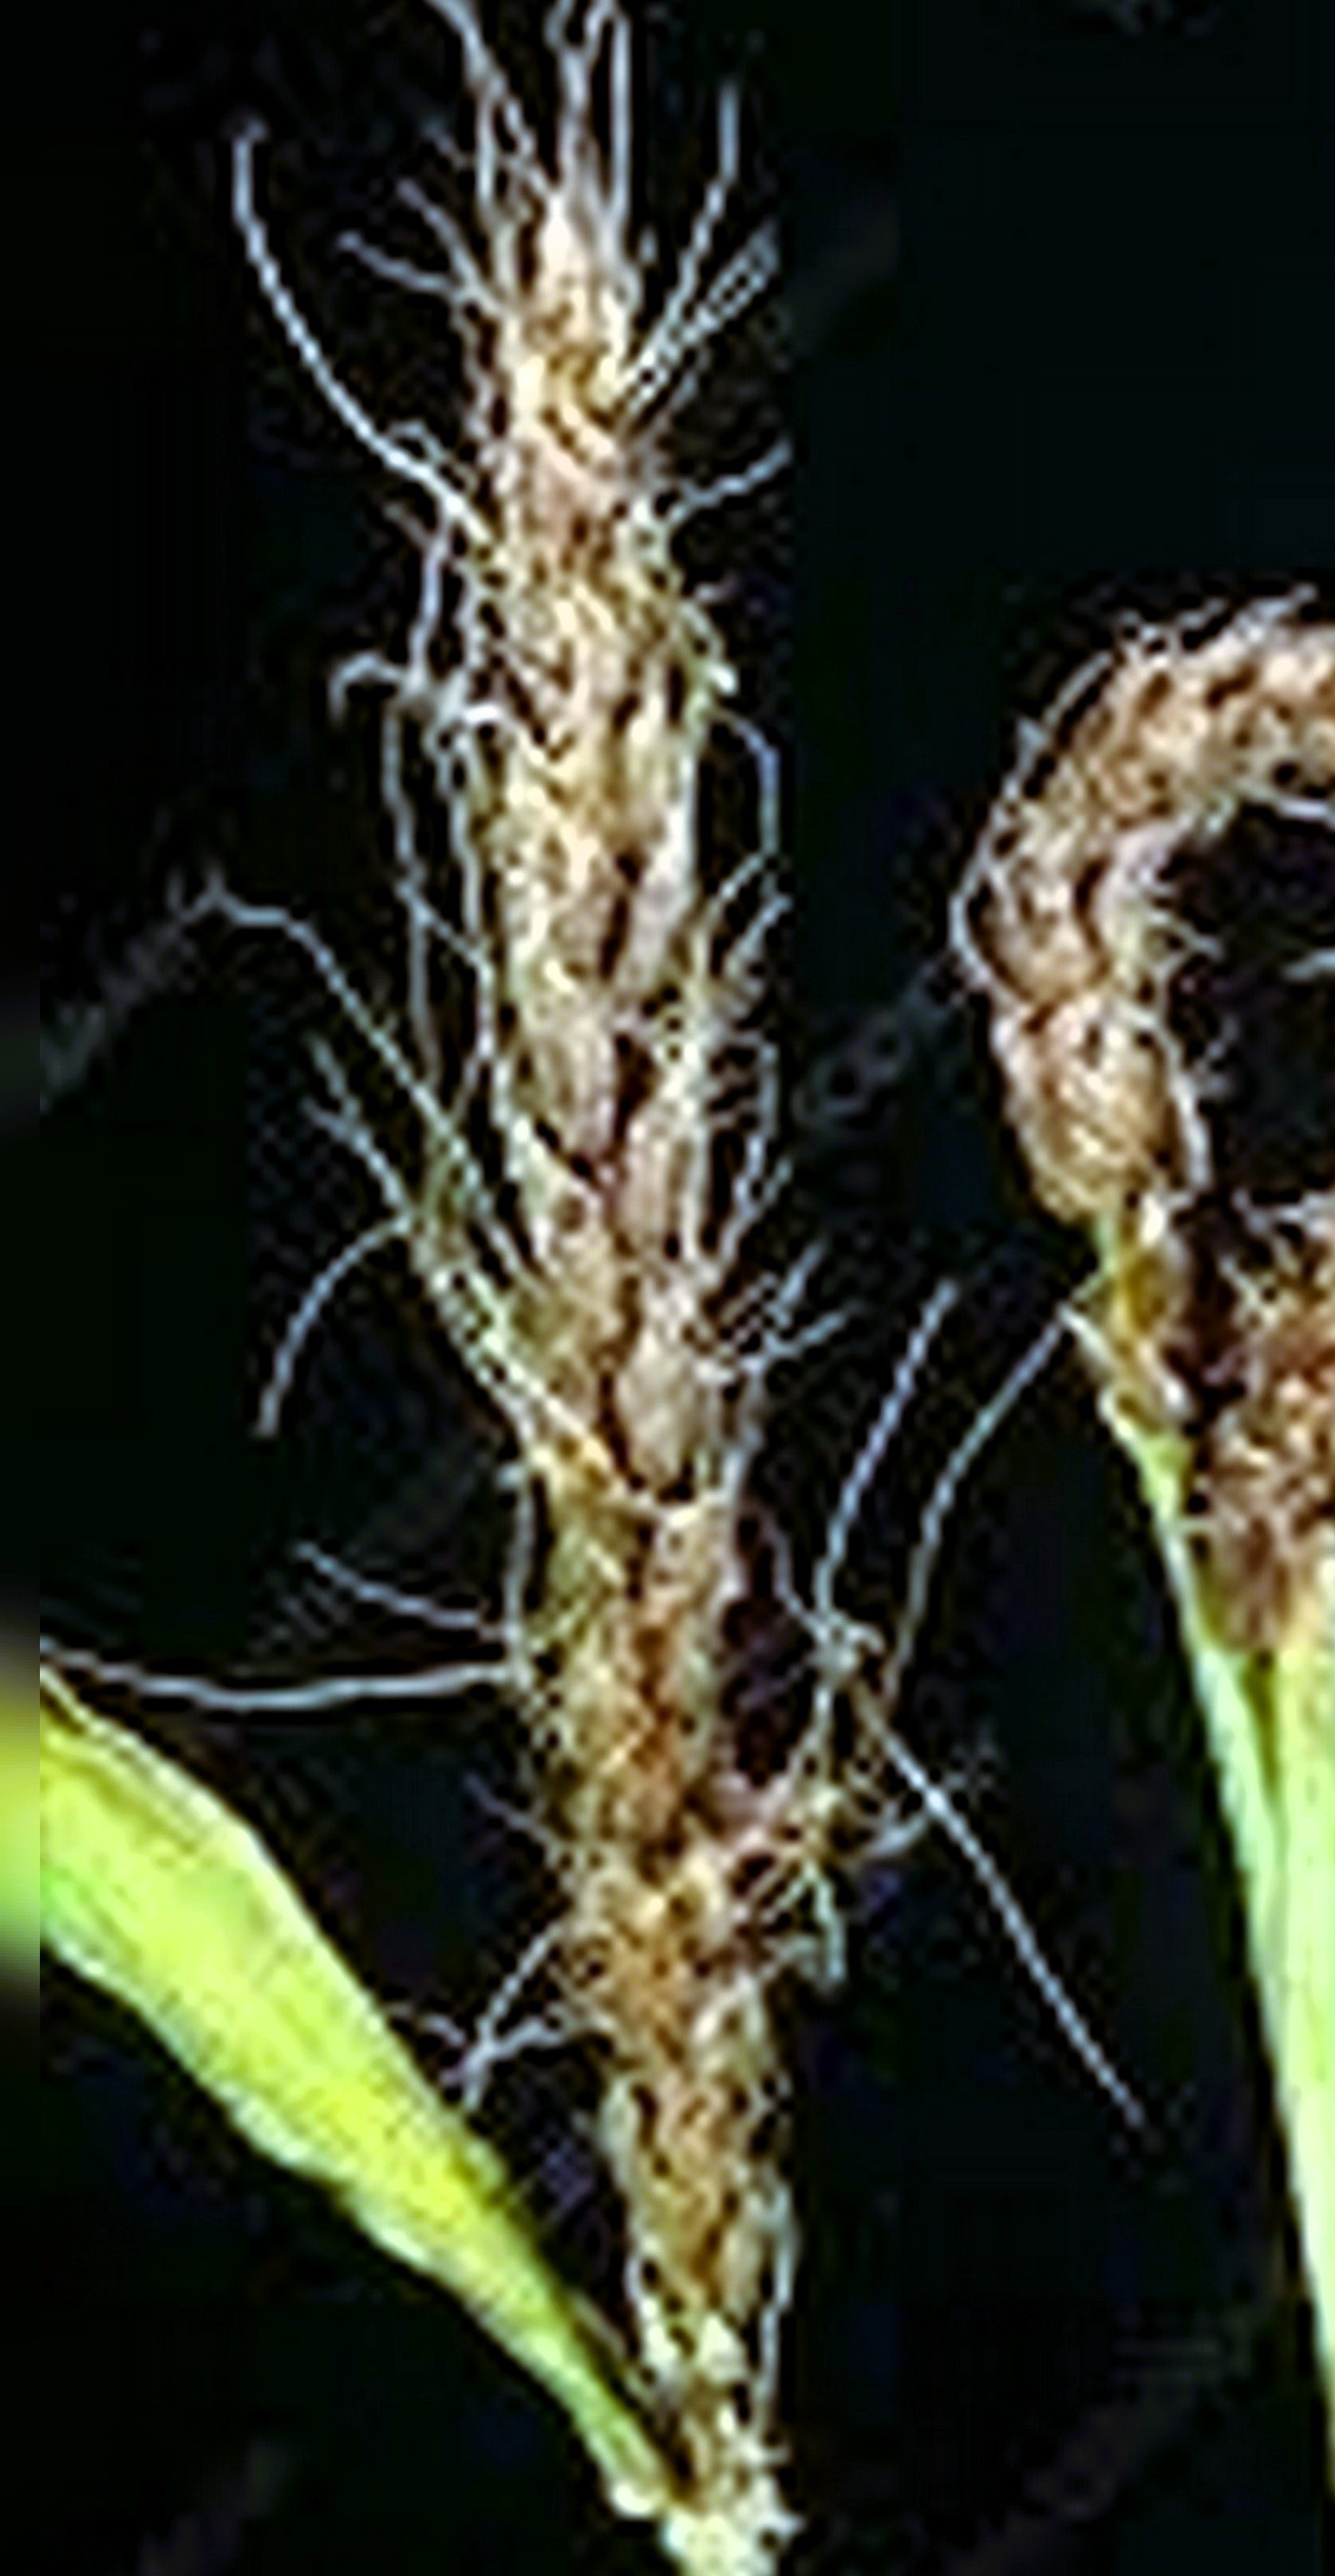Wheat Loose Smut: (230, 531, 875, 1968)
